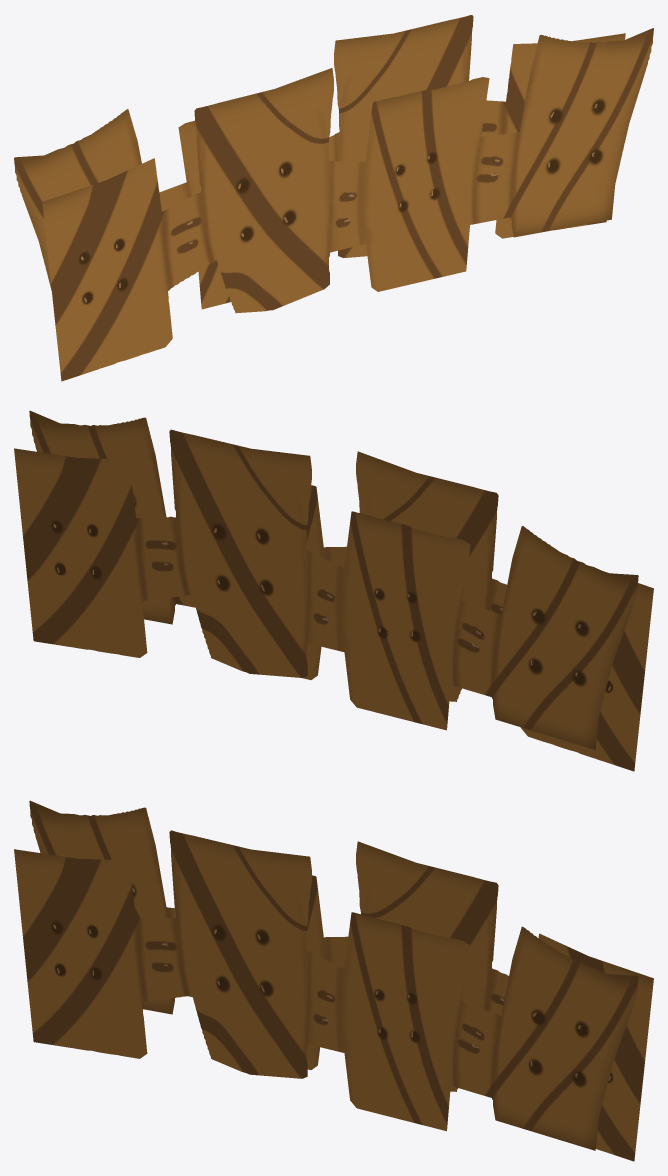
The model's file is Balla.fbx.
3 renders of one model, top to bottom at view 1: azimuth 30°, elevation 25°; view 2: azimuth 150°, elevation 25°; view 3: azimuth 330°, elevation 25°, orthographic. The views are drawn at different scales.
Visible parts, largest first — view 1: Plane.008; view 2: Plane.008; view 3: Plane.008.
Part boxes in pixels (box(x1,y1,x2,y2)): Plane.008: box(14, 15, 653, 381); Plane.008: box(14, 410, 653, 771); Plane.008: box(14, 800, 653, 1161).
Bounding box in the file's own units: 487 × 190 × 29.52.
1 material, 1 textured.
